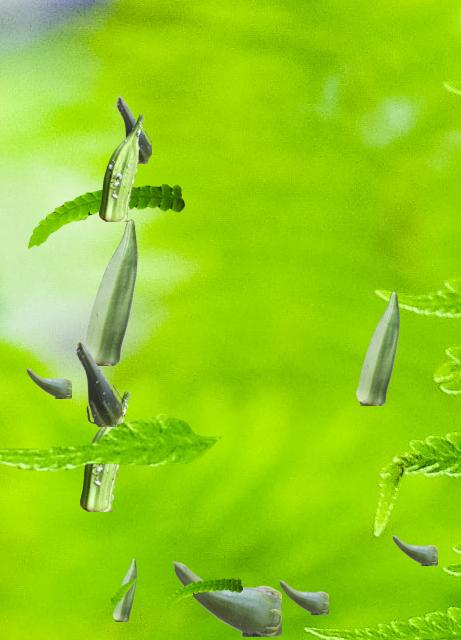okra: (172, 561, 280, 635), (84, 219, 136, 364), (80, 391, 129, 510), (356, 291, 398, 404), (99, 114, 143, 220), (74, 338, 120, 425), (115, 94, 150, 162), (279, 580, 327, 613), (113, 558, 135, 620), (26, 368, 70, 397), (392, 535, 436, 564)
